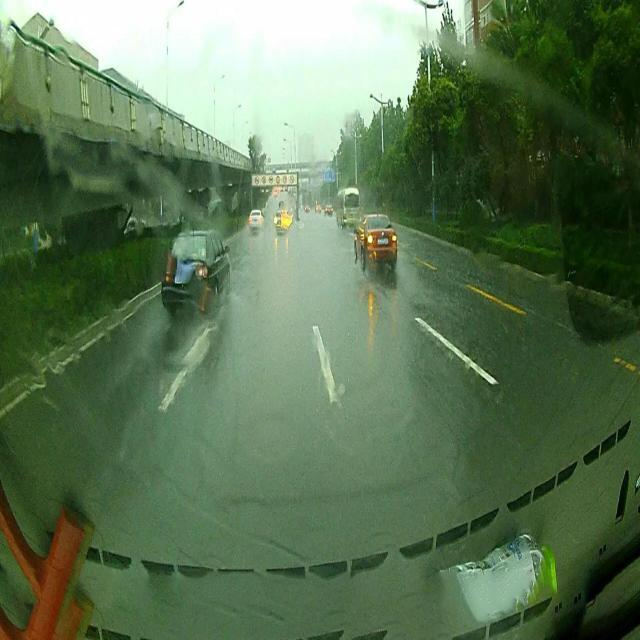car: (162, 228, 232, 310), (352, 212, 398, 272), (273, 210, 288, 233), (250, 210, 264, 233)
